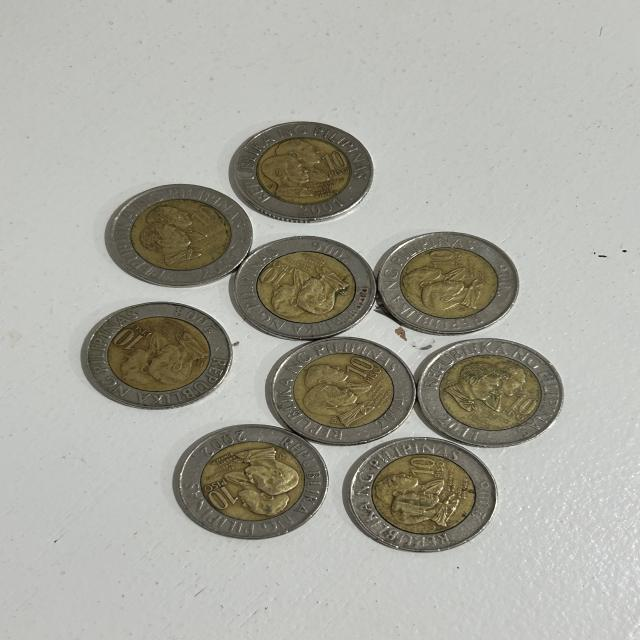10_Old_Front: (345, 347, 386, 387), (314, 140, 354, 179)
